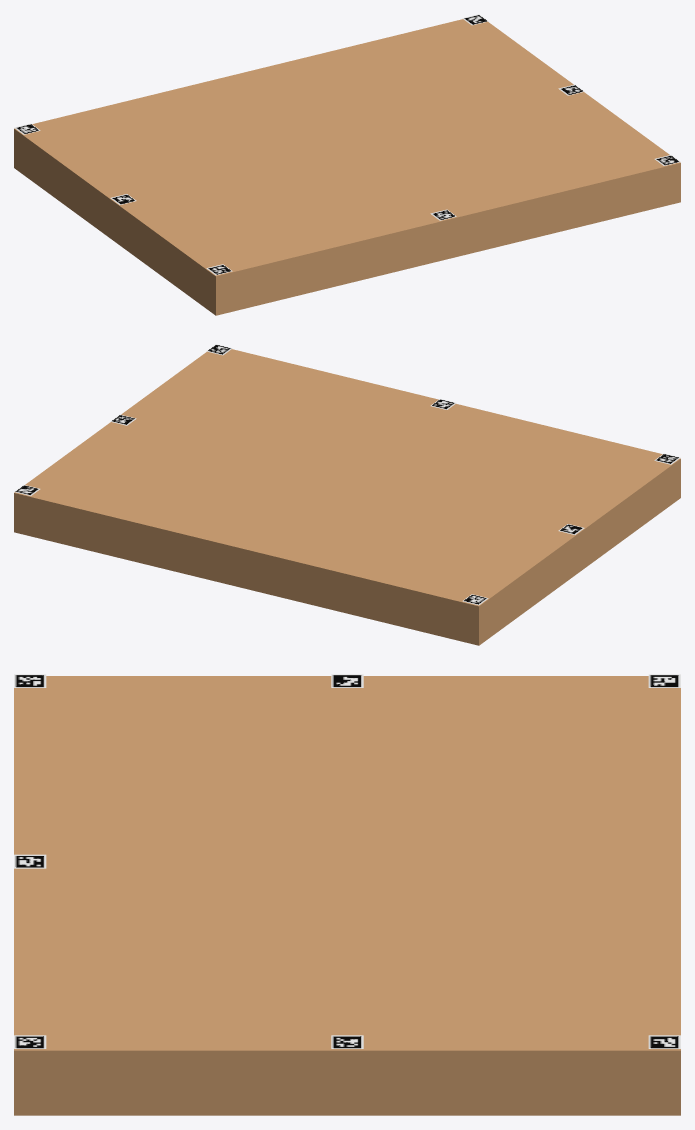
File: table.dae
3 views of the same model, one above another, from view 1: azimuth 30°, elevation 25°; view 2: azimuth 150°, elevation 25°; view 3: azimuth 270°, elevation 25° (orthographic). The views are drawn at different scales.
Visible parts, largest first — view 1: Cube; view 2: Cube; view 3: Cube.
Boxes of the visible parts, x1,y1,x2,y2 form: Cube: [14, 19, 680, 315]; Cube: [14, 349, 680, 645]; Cube: [14, 676, 680, 1115].
Size of the model in its own units: 1.22 by 0.9144 by 0.1008.
8 materials, 7 textured.
